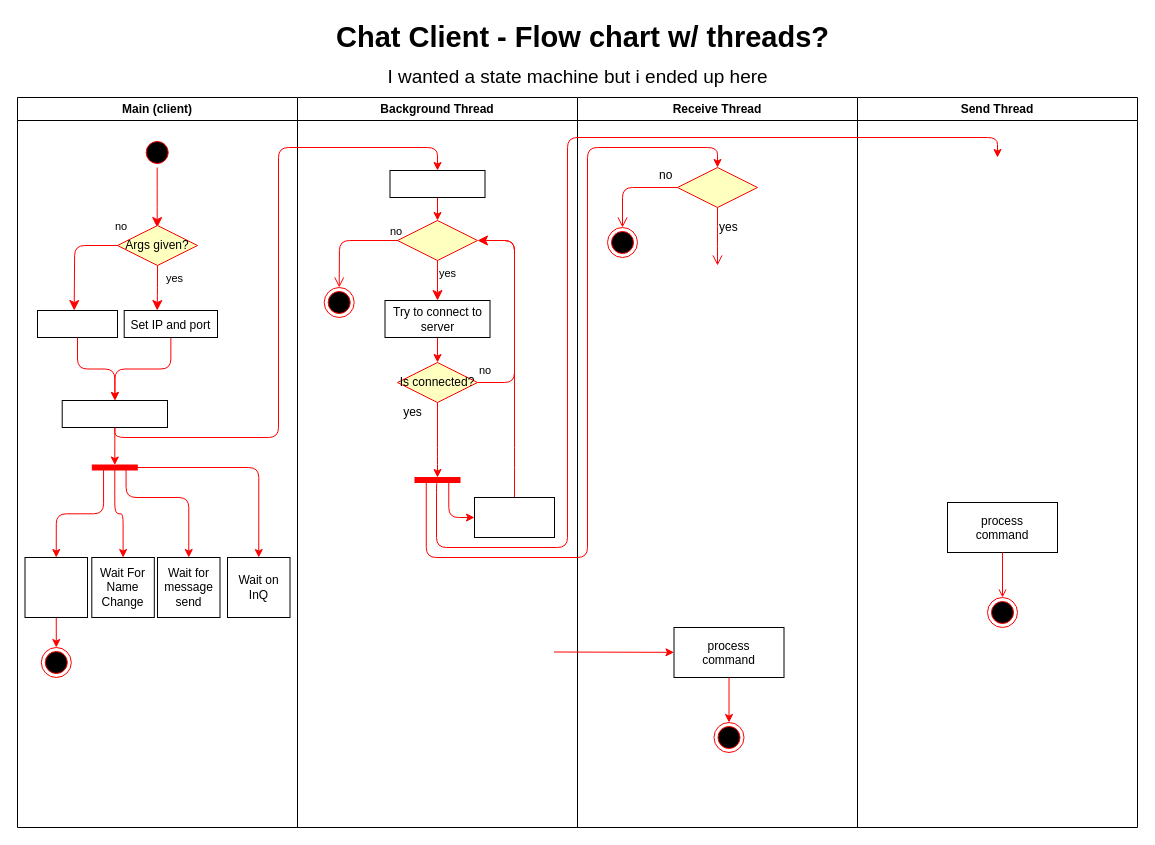
Some shapes in this 1155 by 845 pixel diagram are drawn without their labels. Here are the shapes that lost their labels. From the top down, the centre of each, then its label:
At (437,184): "Create Socket".
At (717,187): "is connected".
At (437,240): "Is running?".
At (77,324): "Use Defaults".
At (114,414): "Open Chat Client".
At (514,517): "Wait until not connected".
At (56,587): "Wait Until Client is closed".
